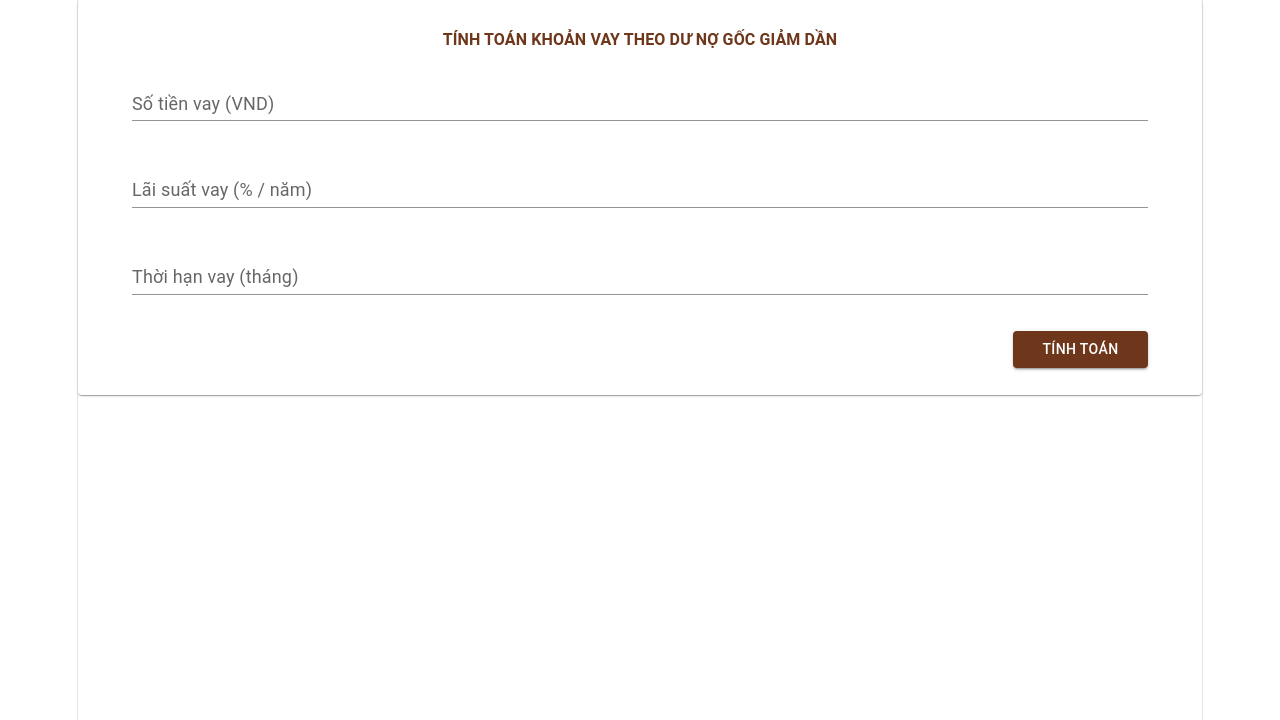
LoanForm › Test submit khi form rỗng
Click the button "Tính toán".
click(1080, 349)  # box [1013,331,1148,368]
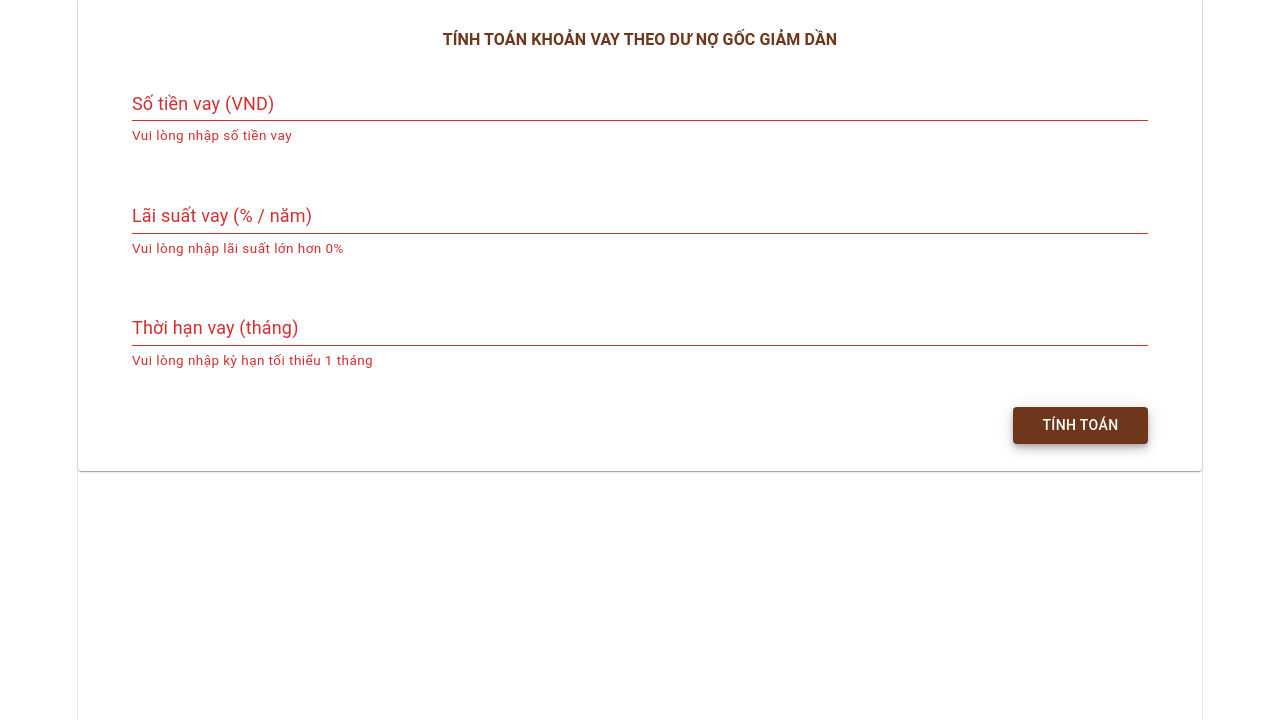
Expected: the text "Vui lòng nhập số tiền vay" is shown, [132,128,292,144]
